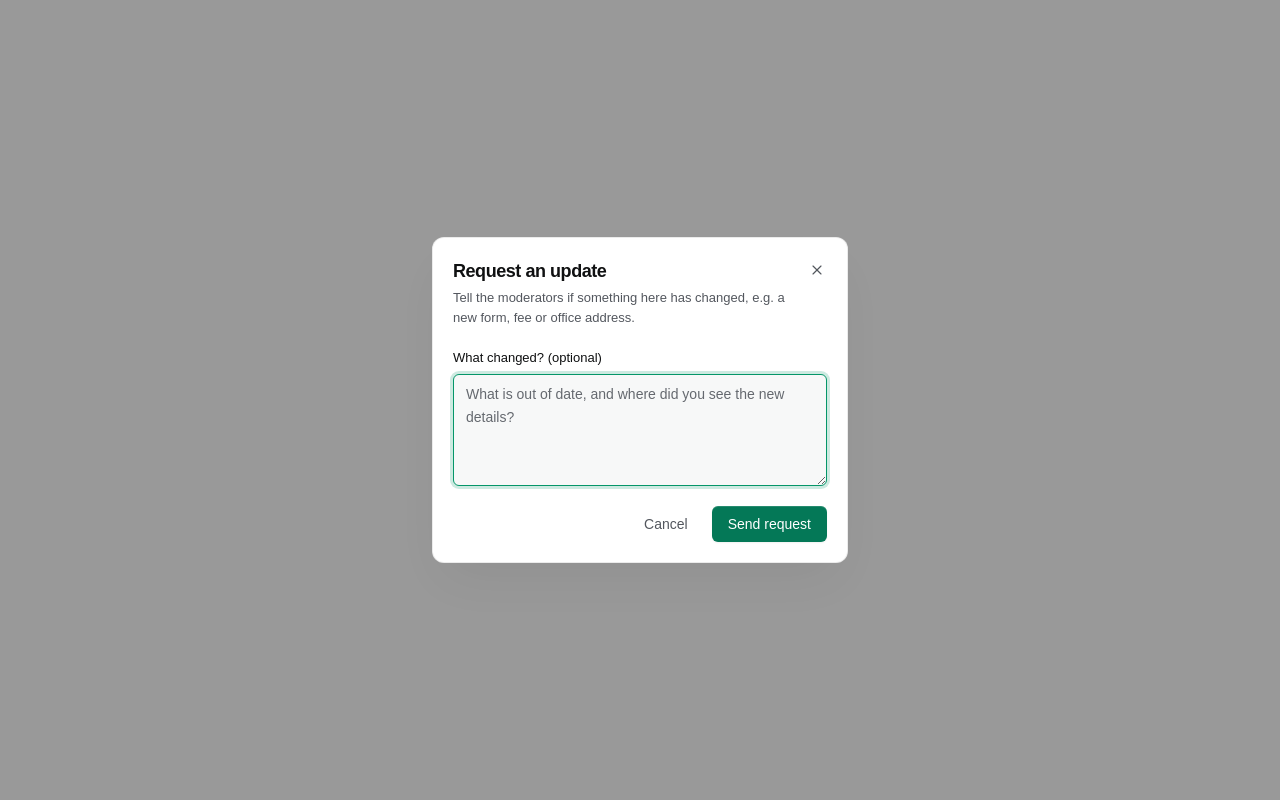
Test: RequestUpdateDialog › shows a failed request
What coordinates should you click on to do the following:
click the button "Send request"
I would click on:
 (769, 524)
Its box is [712,506,827,542].
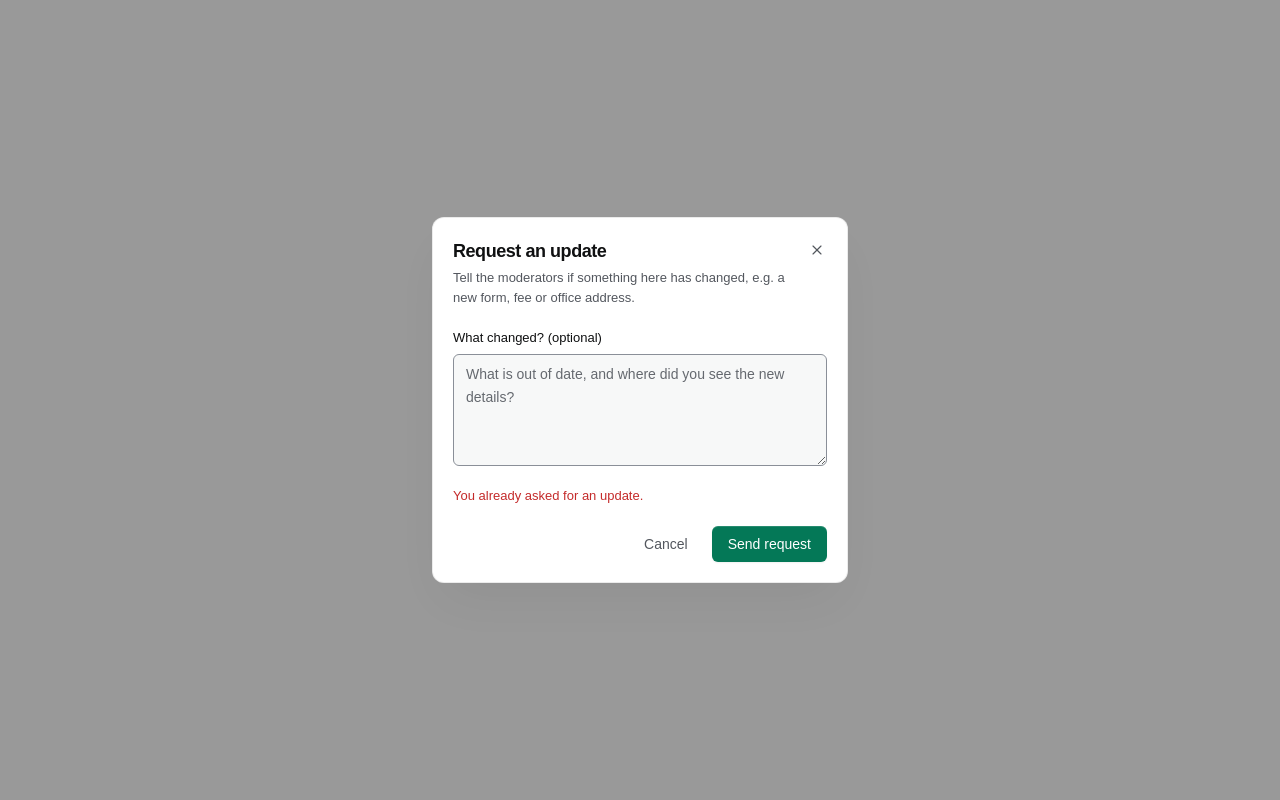
Expected: the message reads "You already asked for an update.", [453,488,643,503]
